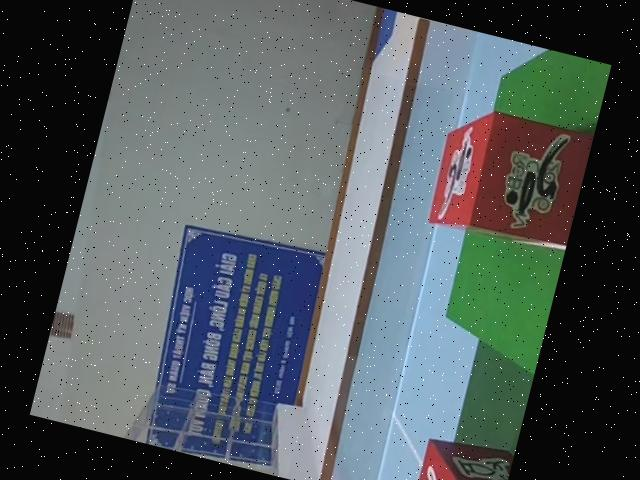R1: (423, 97, 594, 255)
R2 Real: (407, 430, 514, 480)
